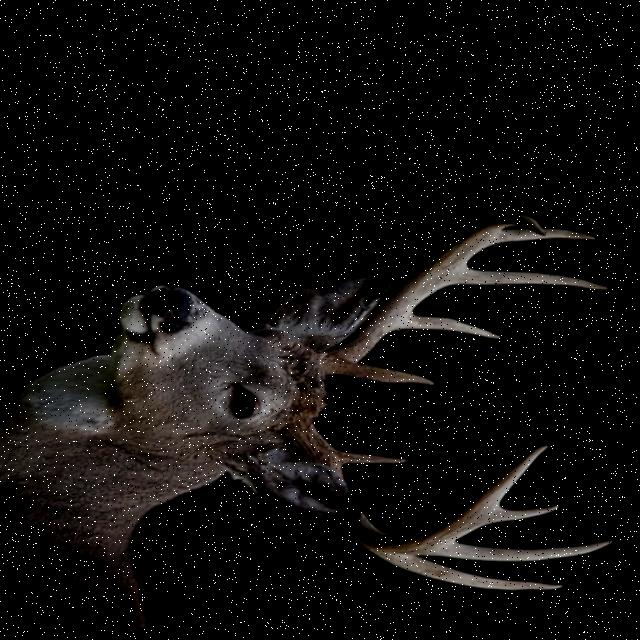L-G1: (331, 447, 407, 468)
L-G2: (369, 552, 564, 593)
L-G3: (416, 543, 614, 564)
L-G4: (490, 507, 561, 526)
R-F: (315, 216, 547, 378)
R-G1: (335, 362, 435, 388)
R-G2: (392, 315, 503, 341)
R-G3: (448, 269, 610, 294)
R-G4: (488, 231, 597, 248)
